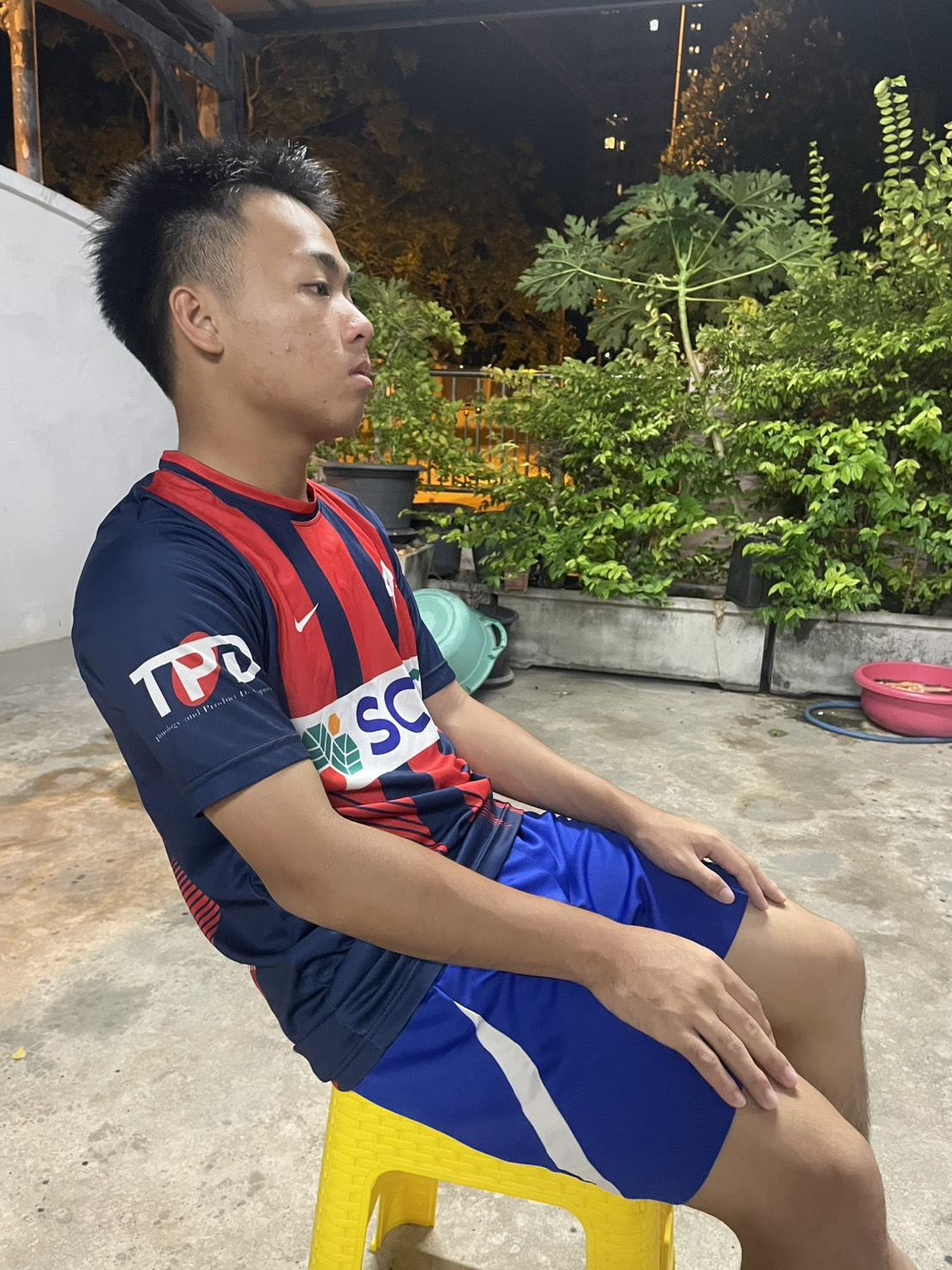BadPosture: (73, 141, 913, 1269)
